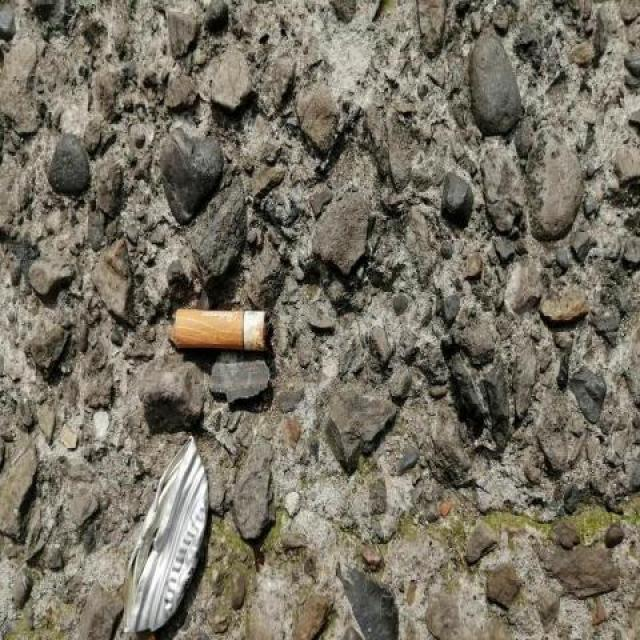non-organic waste: (170, 302, 277, 362)
